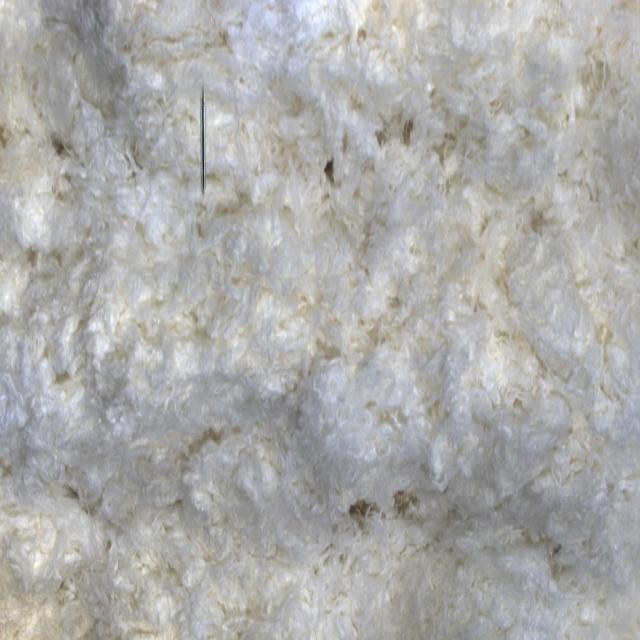dust: (145, 73, 284, 232)
